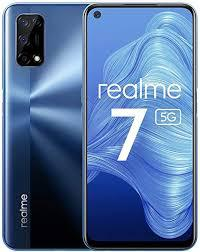Smartphone: (87, 2, 191, 245), (10, 4, 84, 248)
